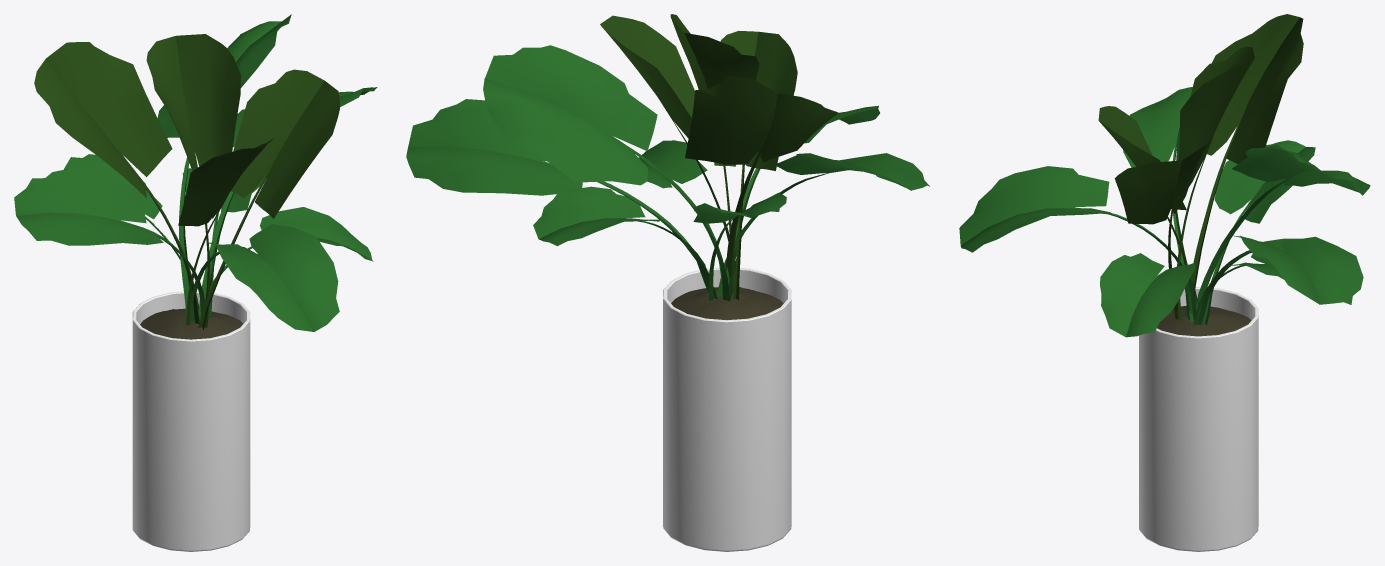
Rendered from plants.gltf.
3 renders of one model, left to right at view 1: azimuth 30°, elevation 25°; view 2: azimuth 150°, elevation 25°; view 3: azimuth 270°, elevation 25°, orthographic. The views are drawn at different scales.
Visible parts, largest first — view 1: 植物_盆栽17; view 2: 植物_盆栽17; view 3: 植物_盆栽17.
Part boxes in pixels (<box>): 植物_盆栽17: <box>14,14,377,551</box>; 植物_盆栽17: <box>406,14,929,551</box>; 植物_盆栽17: <box>959,14,1370,551</box>.
Bounding box in the file's own units: 1.21 × 1.33 × 1.04.
